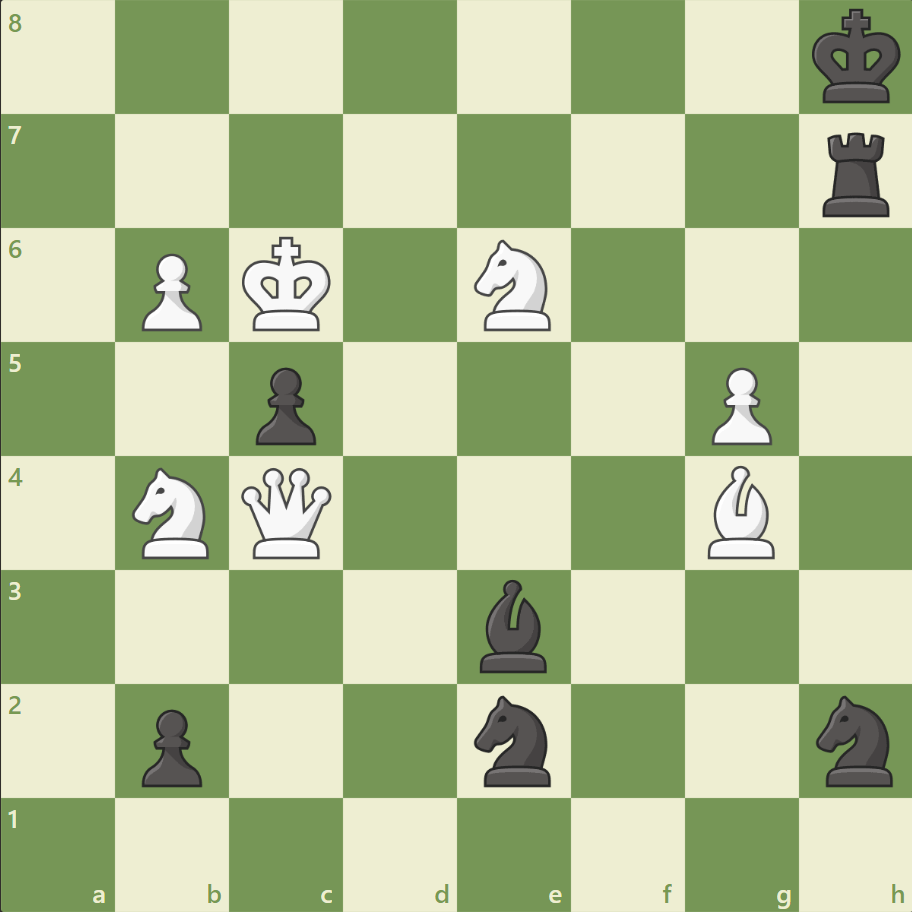B: (698, 460, 782, 563)
K: (238, 231, 338, 339)
N: (124, 461, 222, 564), (465, 234, 562, 337)
P: (133, 246, 208, 337), (701, 359, 776, 450)
Q: (237, 463, 336, 562)
b: (471, 574, 555, 676)
k: (806, 4, 906, 112)
n: (465, 688, 562, 791), (806, 688, 903, 791)
p: (247, 359, 322, 450), (133, 700, 208, 791)
r: (814, 125, 897, 222)
